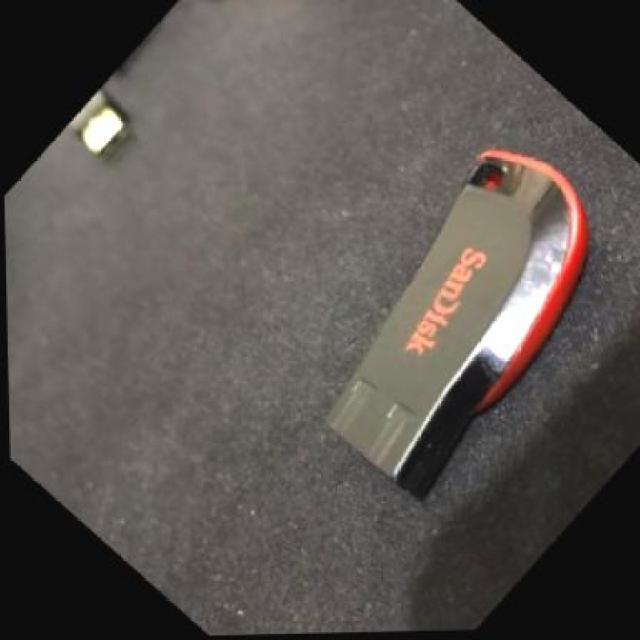Flashdisk: (249, 98, 640, 536)
